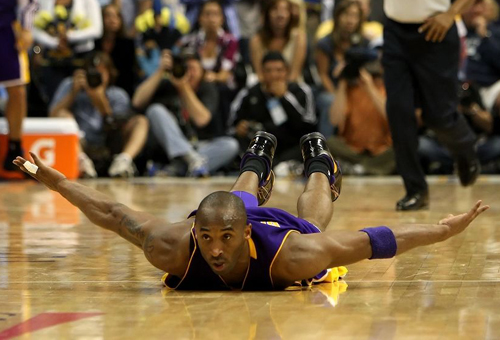10+: (1, 1, 500, 293)
down: (10, 130, 490, 293)
